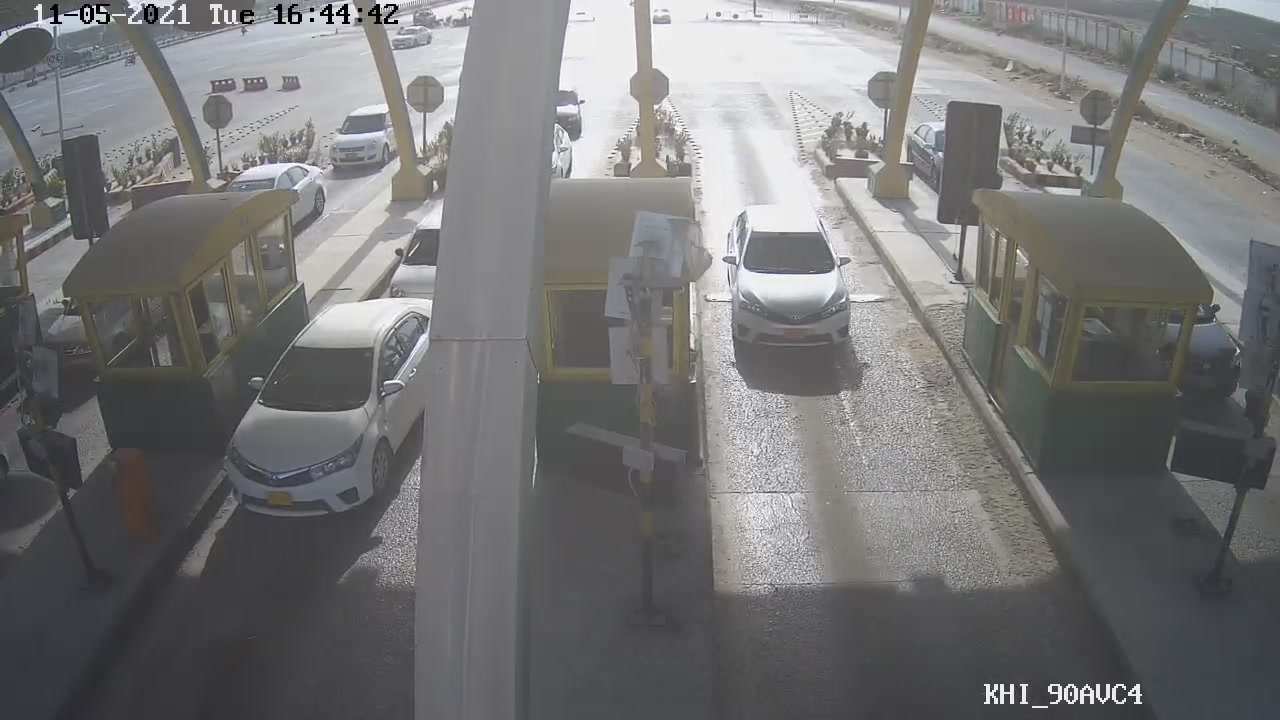F1: (720, 199, 860, 352)
